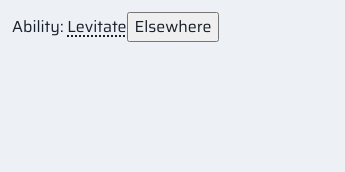
Test: InfoTip › opens on a click or tap and stays open until closed
Click the button "Levitate" at {"x": 97, "y": 27}, box [67, 15, 126, 39]
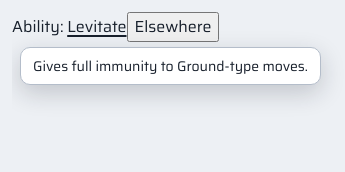
Expected: the tooltip shows "Ground-type", [33, 55, 308, 77]
Expected: the button "Levitate" is expanded
Click the button "Levitate" at {"x": 97, "y": 27}, box [67, 15, 126, 39]
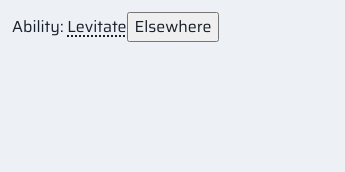
Expected: the tooltip "Gives full immunity to Ground-type moves." is gone
